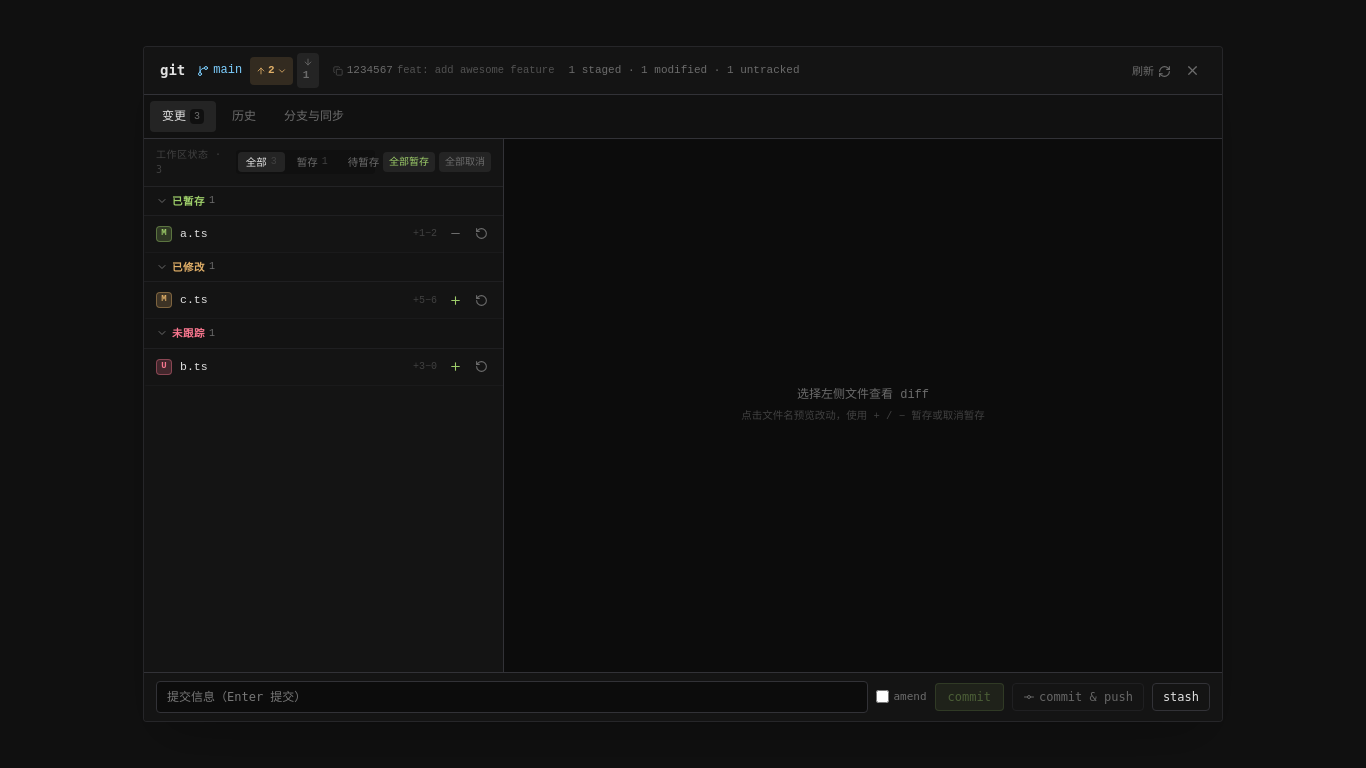
it: GitPanel — 打开/关闭与状态 › 打开拉取 status + branches；渲染分支计数与行状态
The width and height of the screenshot is (1366, 768).
Expected: the text "a.ts" is shown, [180,227,208,240]
Expected: the text "b.ts" is shown, [180,360,208,373]
Click the tab "分支与同步": (314, 116) [272,101,356,132]
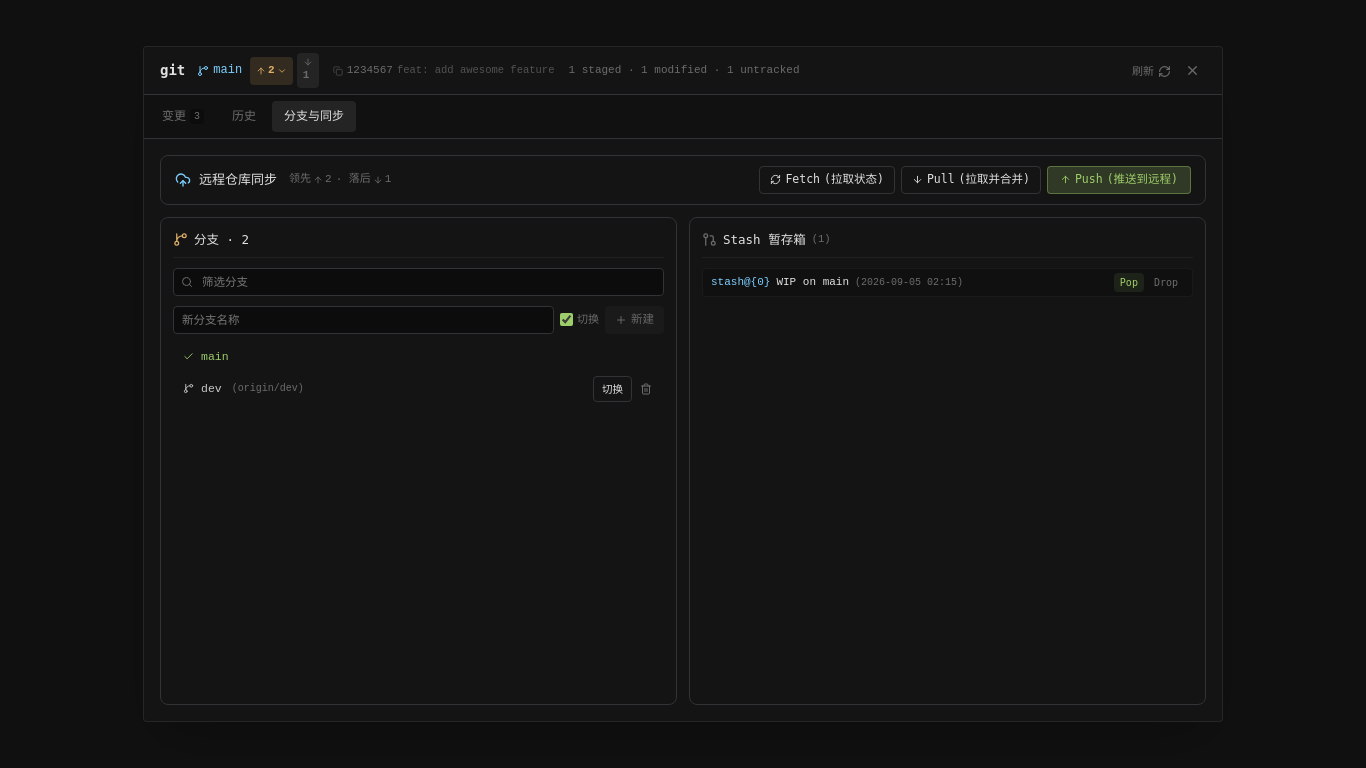
Result: the text "分支 · 2" is shown at [173,230,249,249]
Result: the button "dev (origin/dev)" is shown at [181,380,593,398]
